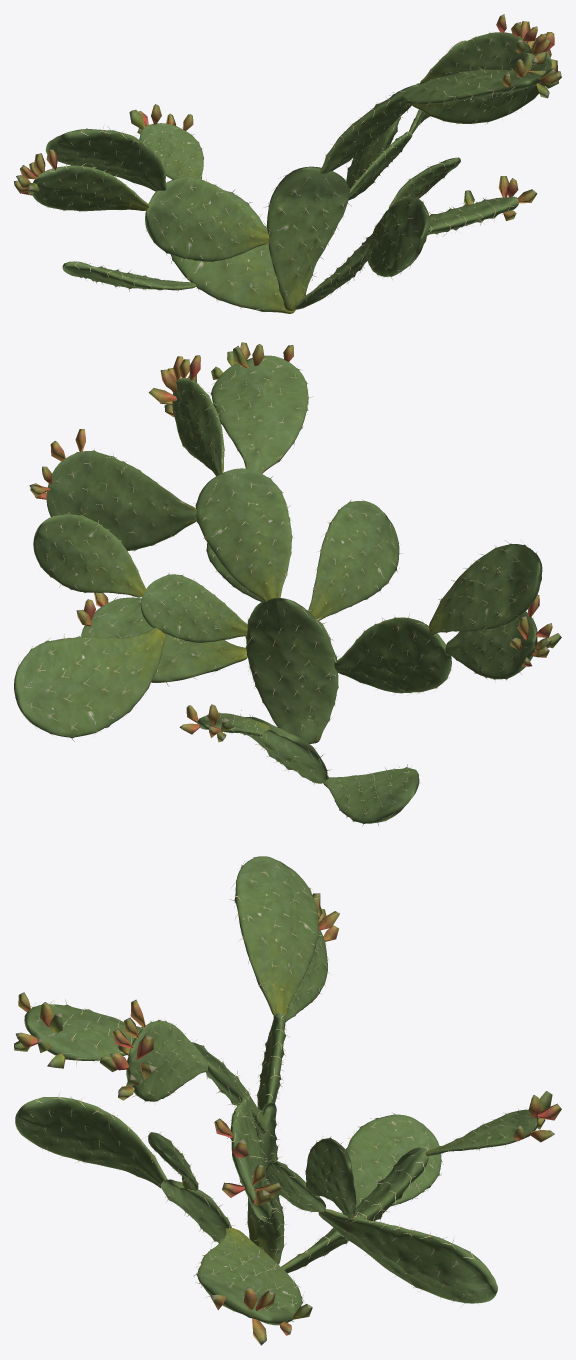
Rendered from Opuntia ficus-indica HD_Drooping fruits mat 40_LOD3.fbx.
3 views of the same model, one above another, from view 1: azimuth 30°, elevation 25°; view 2: azimuth 150°, elevation 25°; view 3: azimuth 270°, elevation 25° (orthographic). The views are drawn at different scales.
Visible parts, largest first — view 1: Opuntia_ficus_indica_HD; view 2: Opuntia_ficus_indica_HD; view 3: Opuntia_ficus_indica_HD.
Boxes of the visible parts, box(x1,y1,x2,y2) form: Opuntia_ficus_indica_HD: box(14, 14, 561, 313); Opuntia_ficus_indica_HD: box(14, 342, 561, 826); Opuntia_ficus_indica_HD: box(14, 856, 561, 1345).
Bounding box in the file's own units: 1.58 × 0.8951 × 1.21.
12 materials, 12 textured.
